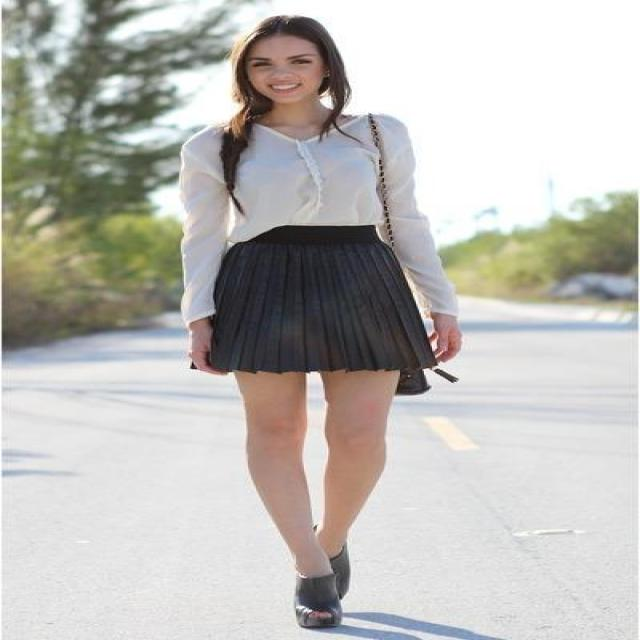shirt: (173, 113, 467, 330)
shoe: (296, 586, 338, 626)
skirt: (203, 225, 437, 373)
